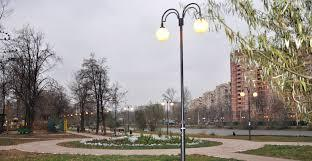Animal: (153, 4, 213, 161), (237, 79, 258, 140)
